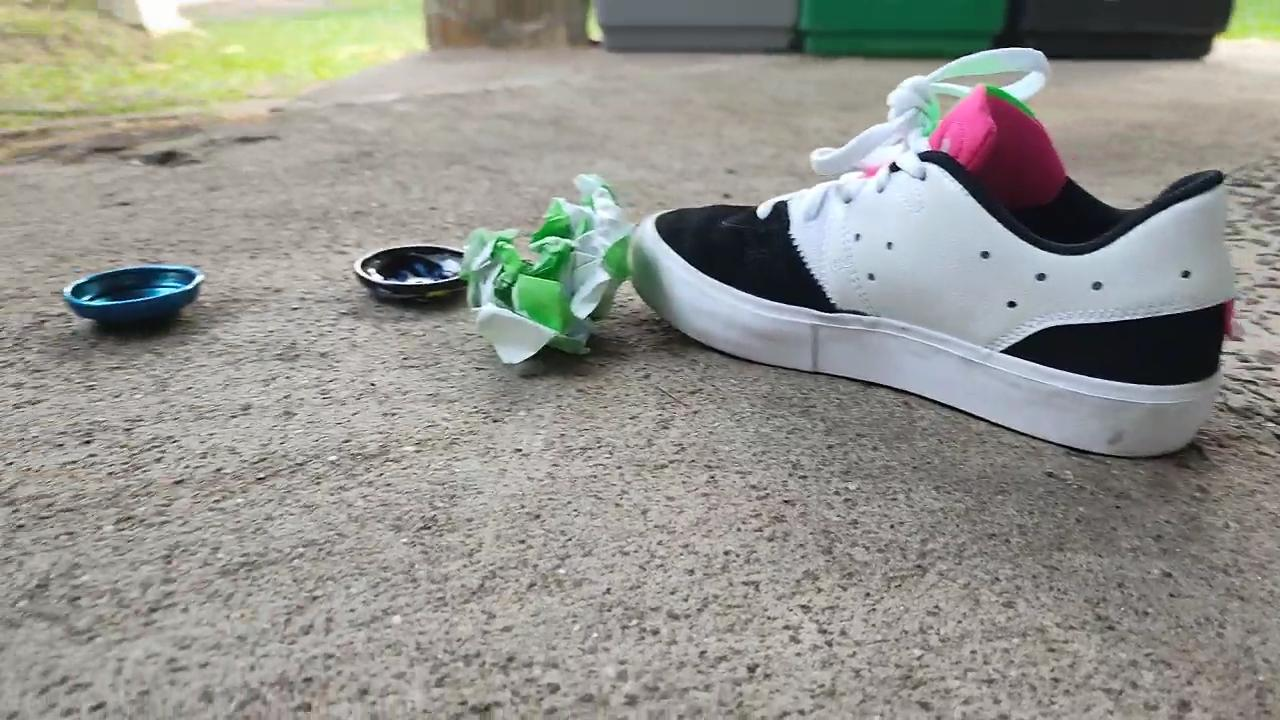Paper: (412, 145, 655, 373)
